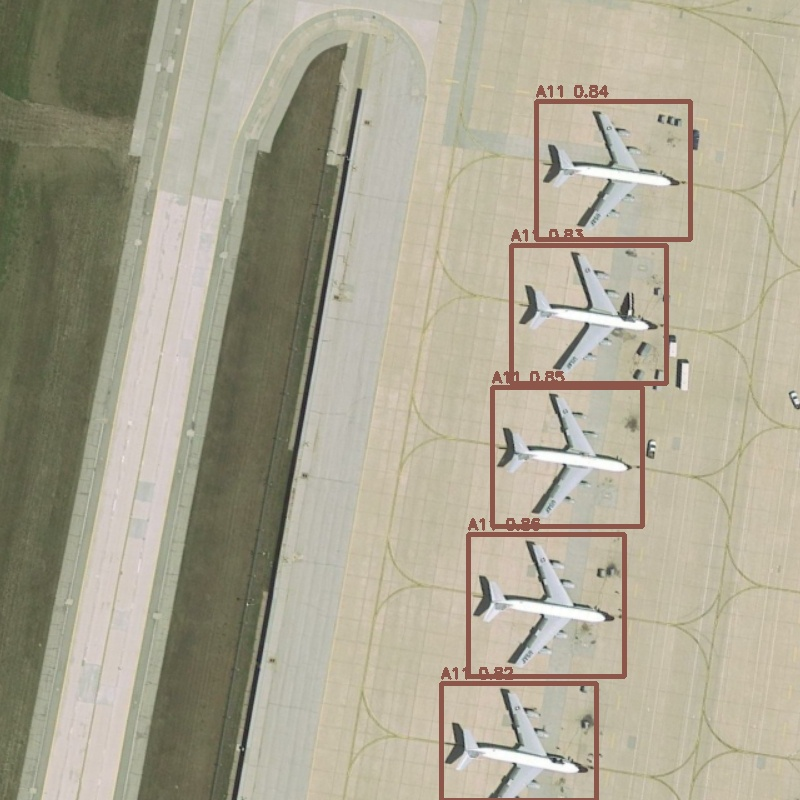A11: (468, 534, 624, 676), (511, 245, 666, 383), (536, 101, 690, 239), (492, 387, 642, 526), (441, 683, 596, 800)
